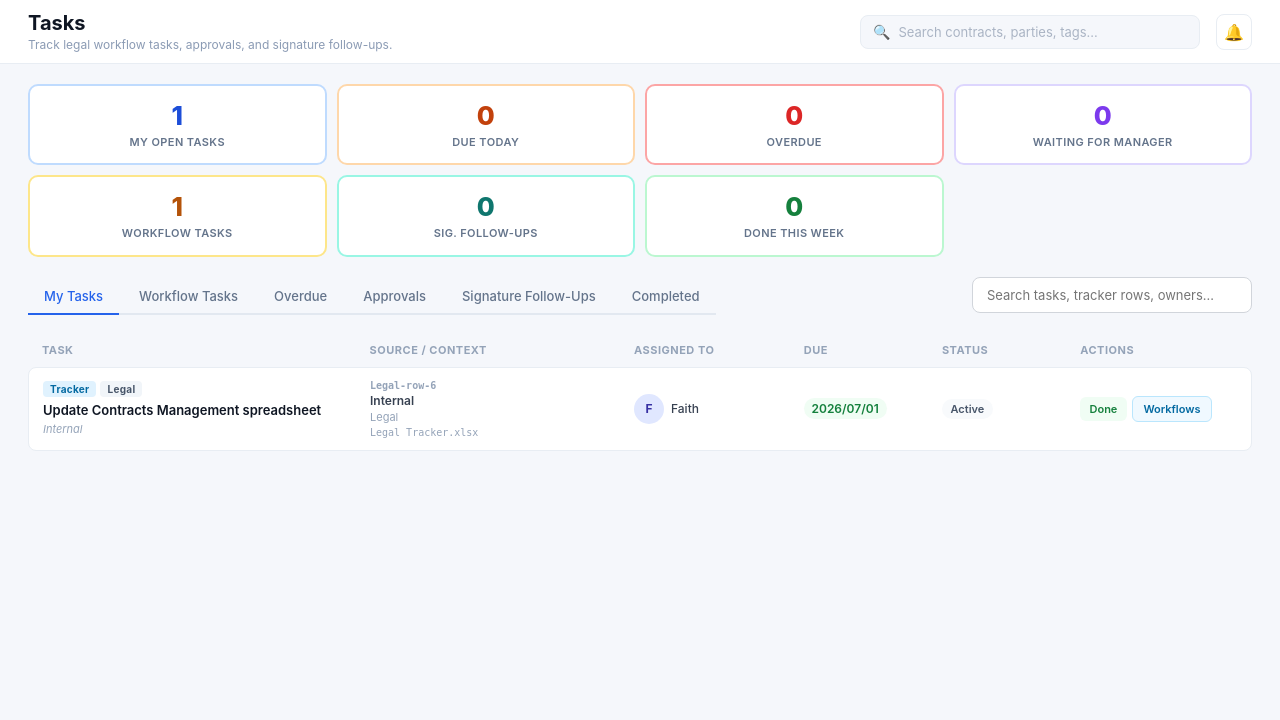
it: (d-1) Clicking Done on tracker item opens DoneConfirmModal
Click the button "Workflow Tasks" at (189, 297), box x1=123 y1=279 x2=254 y2=315
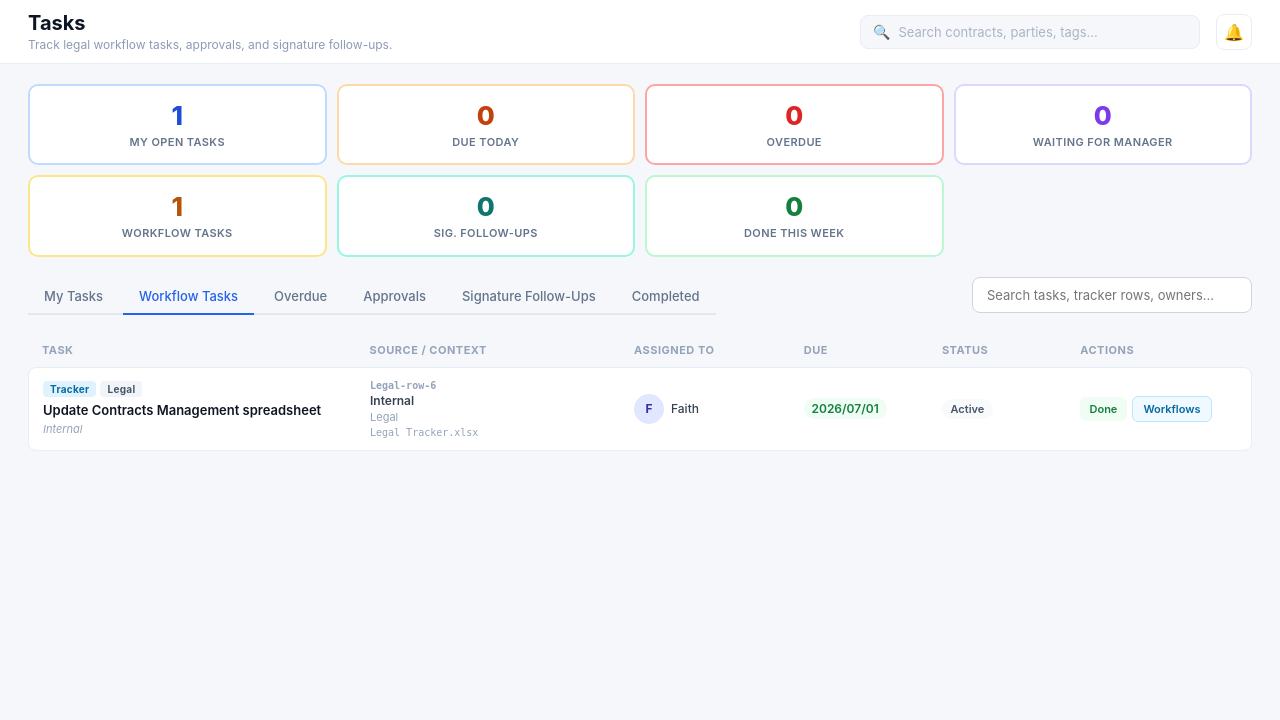
Click the button "Done" at (1103, 409), box x1=1080 y1=397 x2=1127 y2=421
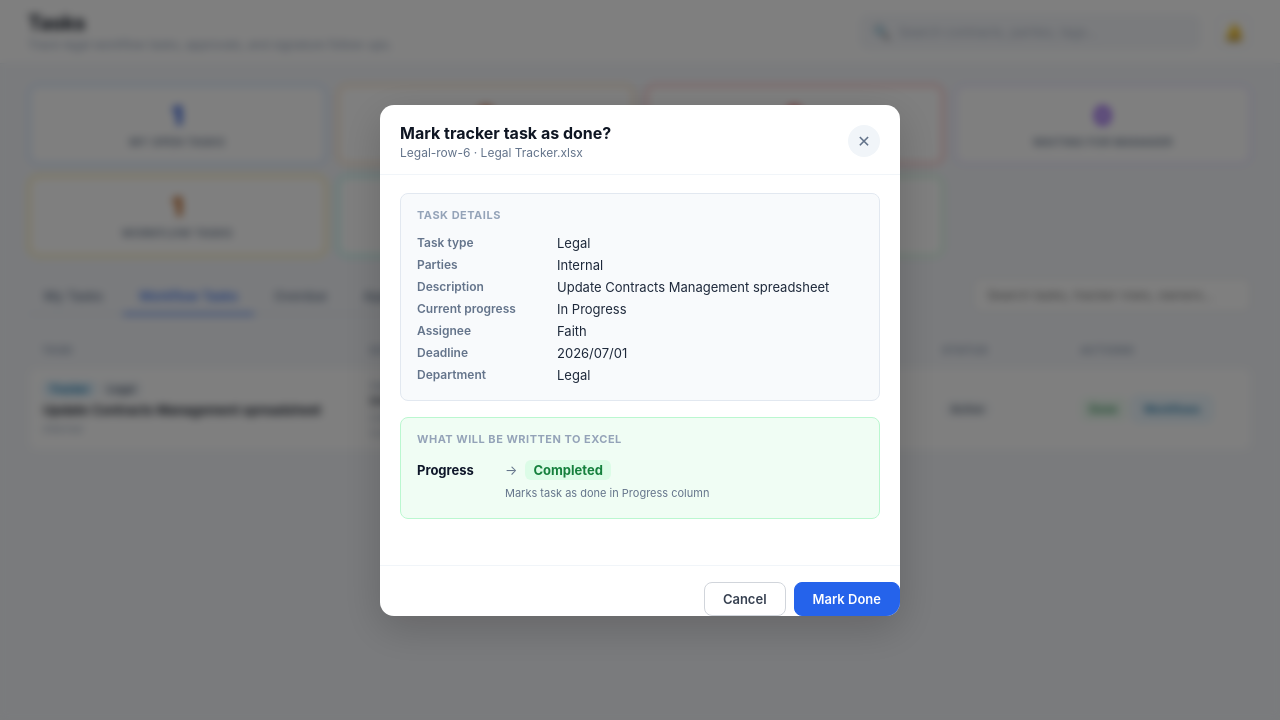
Now the heading "Mark tracker task as done?" is shown, box x1=400 y1=122 x2=611 y2=142
